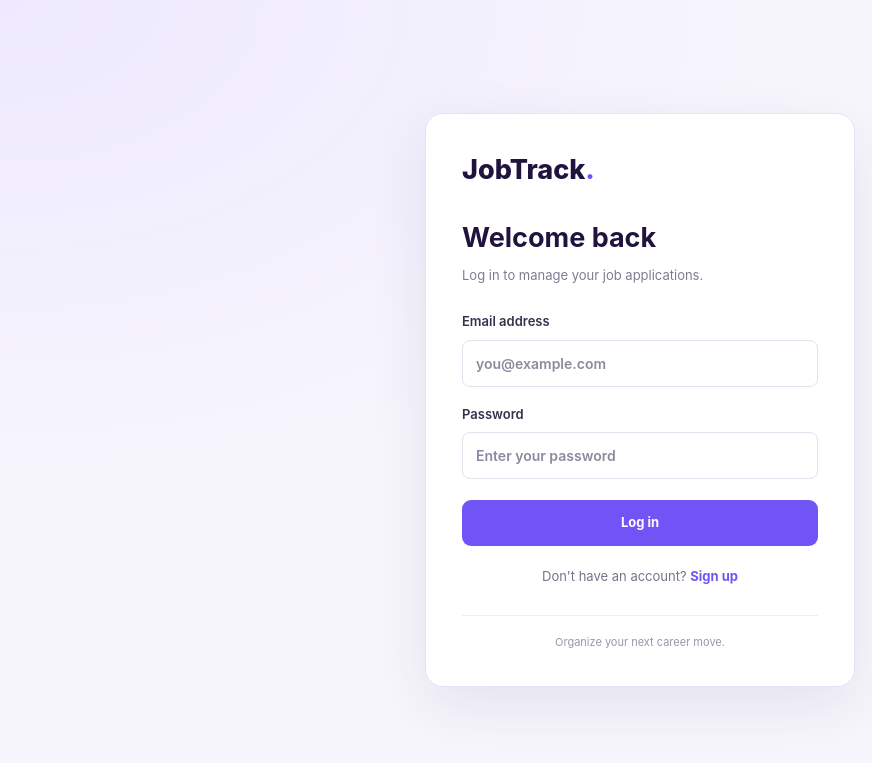
JobTrack authentication UI › shows an error when login credentials are rejected
The image size is (872, 763).
Type "test@example.com" into the field labelled "Email address" at (640, 363), box x1=462 y1=340 x2=818 y2=387
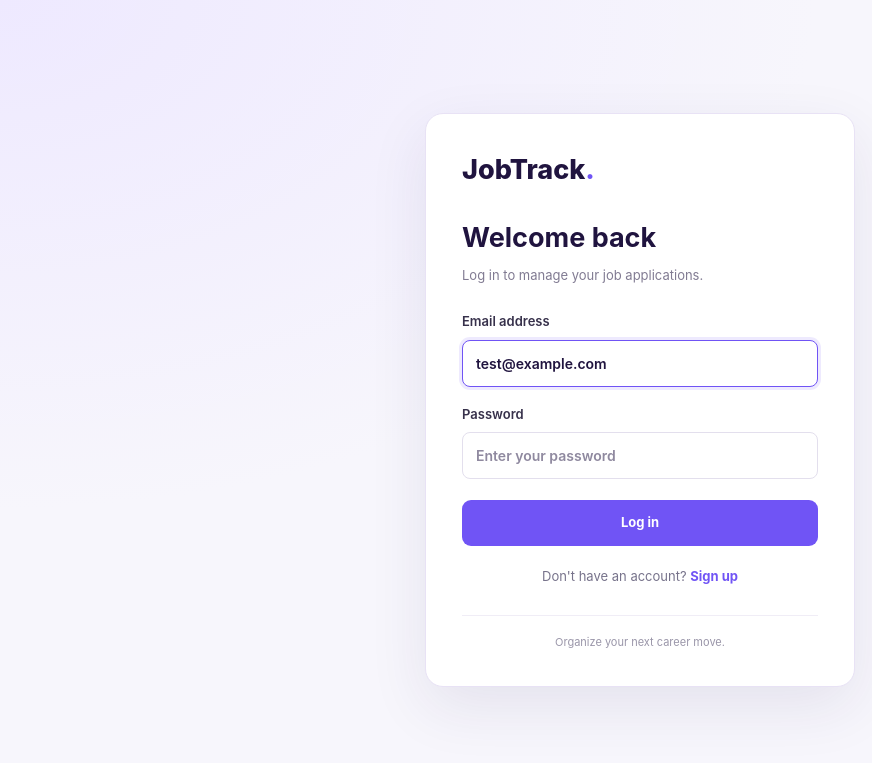
Type "WrongPass123!" into the password field labelled "Password" at (640, 456), box x1=462 y1=432 x2=818 y2=479
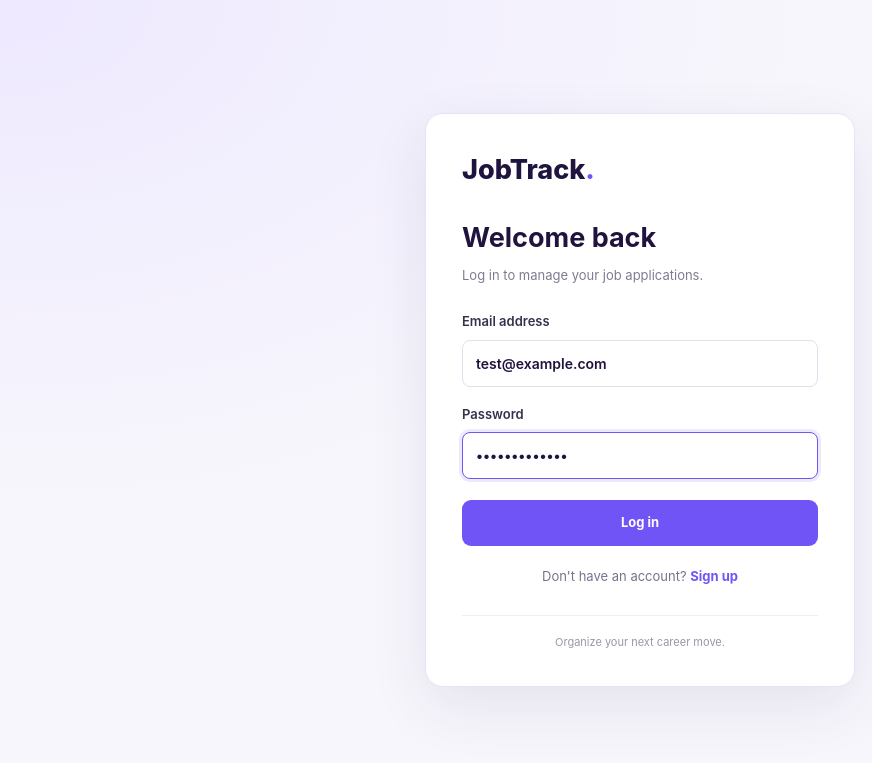
Click the button "Log in" at (640, 523), box x1=462 y1=500 x2=818 y2=546
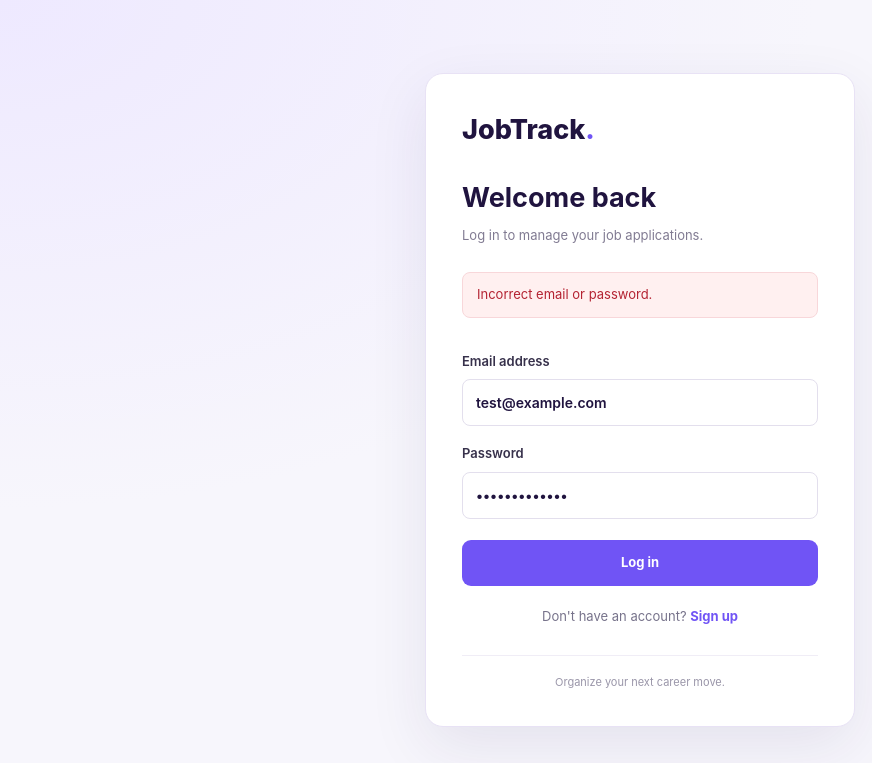
Now the message reads "Incorrect email or password.", box x1=477 y1=286 x2=652 y2=302
